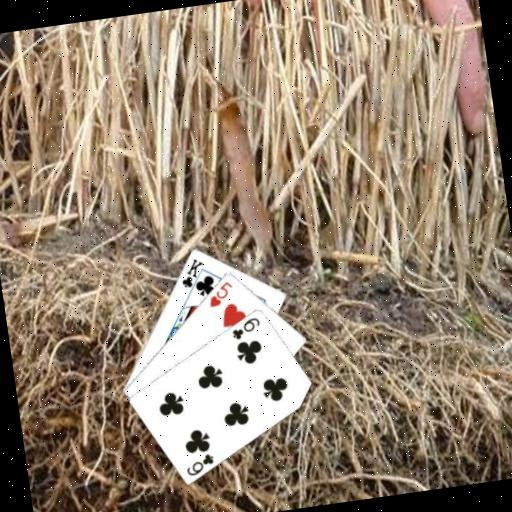5H: (204, 278, 237, 309)
6C: (181, 450, 218, 478), (228, 314, 264, 342)
KC: (175, 254, 209, 296)
